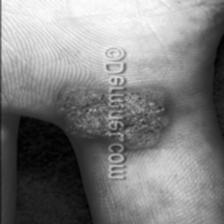Toxin: (65, 92, 166, 149)
